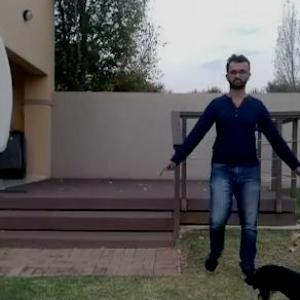land: (171, 66, 292, 273)
